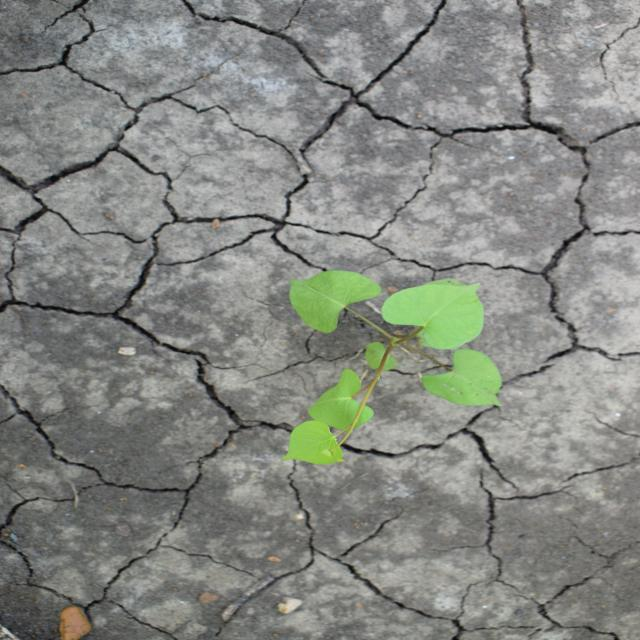MorningGlory: (276, 268, 508, 468)
